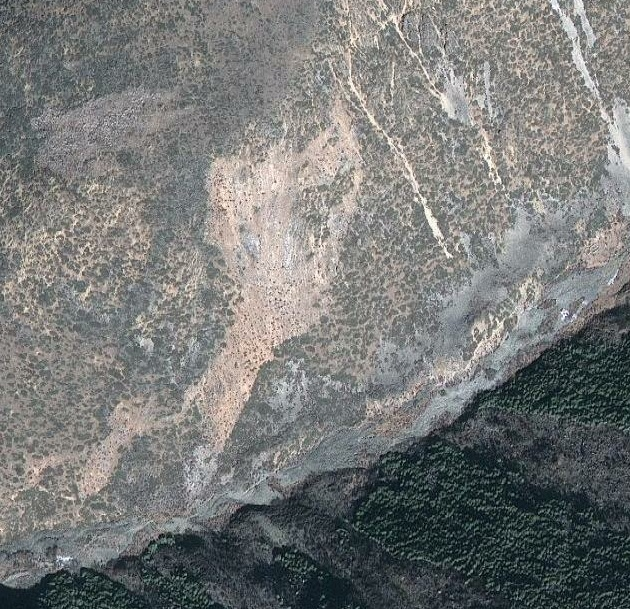slope: (174, 90, 369, 489)
